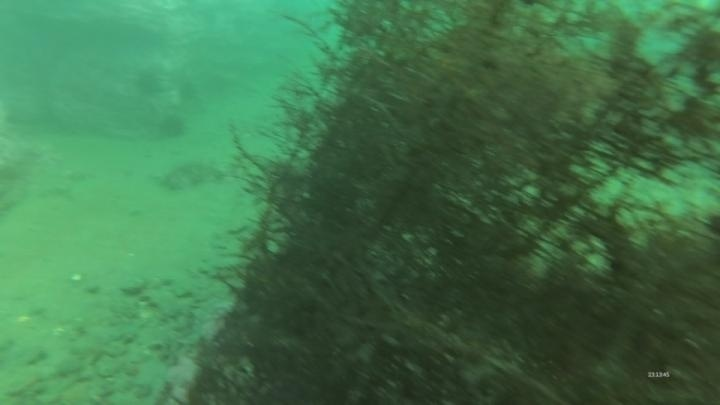echinus: (156, 111, 189, 142)
holothurian: (153, 156, 229, 195)
